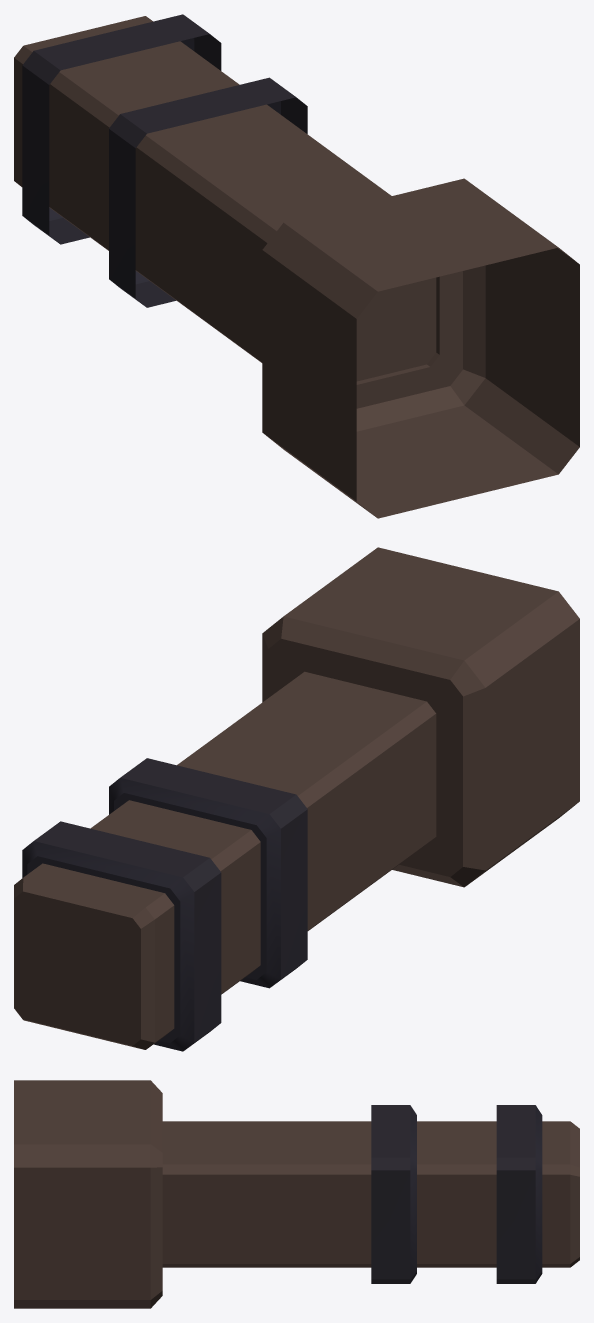
File: Wood Bridge Pillar 01.FBX
The picture shows the model from 3 angles, top to bottom: view 1: azimuth 30°, elevation 25°; view 2: azimuth 150°, elevation 25°; view 3: azimuth 270°, elevation 25°; orthographic projection. The views are drawn at different scales.
Visible parts, largest first — view 1: Wood Bridge Pillar 01; view 2: Wood Bridge Pillar 01; view 3: Wood Bridge Pillar 01.
Boxes of the visible parts, x1,y1,x2,y2 form: Wood Bridge Pillar 01: [14, 14, 579, 518]; Wood Bridge Pillar 01: [14, 547, 579, 1051]; Wood Bridge Pillar 01: [14, 1080, 579, 1308].
Bounding box in the file's own units: 40.18 × 39.03 × 122.
